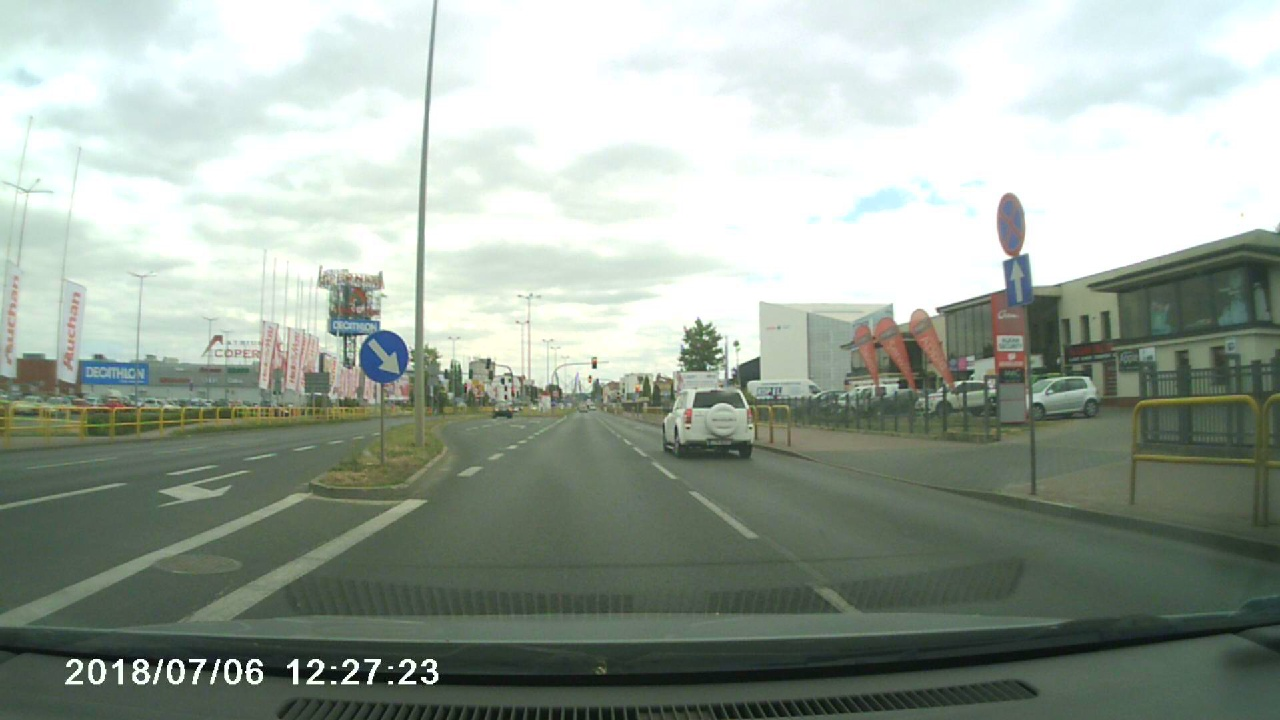B36: (996, 195, 1026, 253)
C9: (360, 331, 409, 384)
D3: (1001, 254, 1034, 306)
